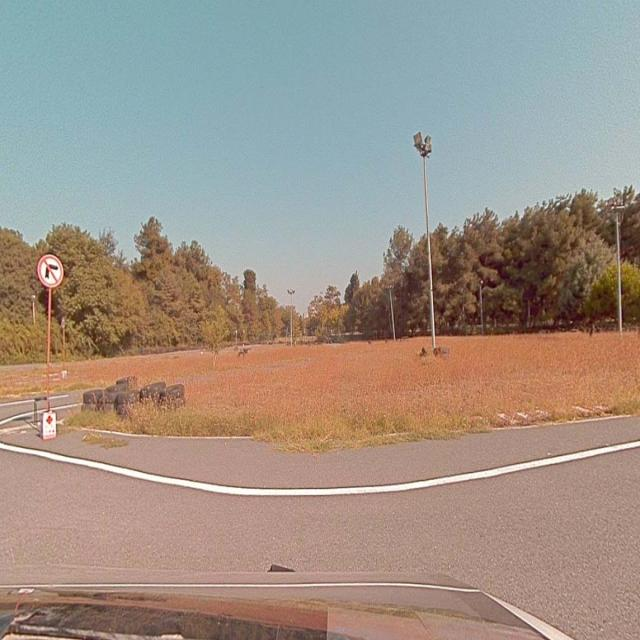sagadonulmez: (37, 254, 61, 287)
